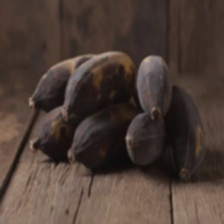banana: (14, 55, 206, 201)
